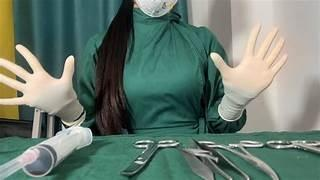Glove: (211, 25, 286, 120), (0, 45, 83, 124)
Mask: (136, 0, 177, 16)
